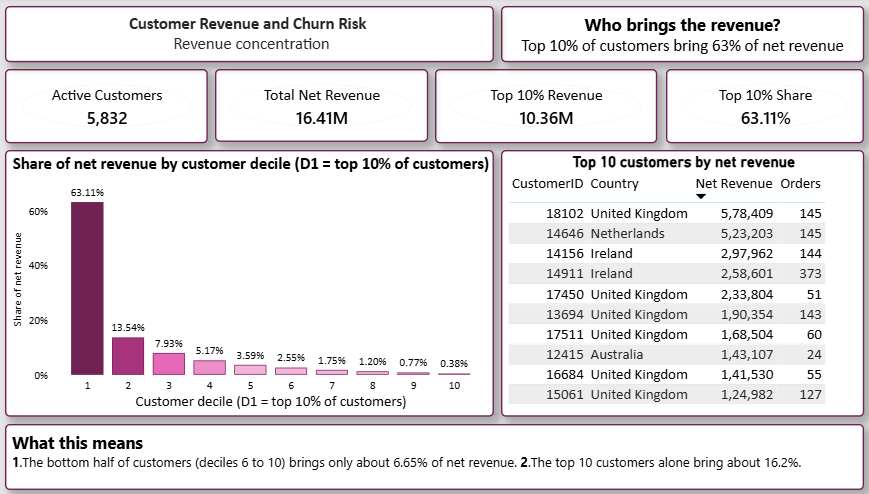

What the dashboard file says about the page in this screenshot:
{"tool":"powerbi","page":{"name":"Revenue concentration","canvas":[1280,720],"ordinal":0},"visuals":[{"type":"cardVisual","fields":{"Data":["dashboard_customers.Active Customers text"]},"box":[30.2,102.2,292.3,106.6],"z":0},{"type":"cardVisual","fields":{"Data":["dashboard_customers.Top 10% Revenue"]},"box":[649.4,102.2,319.7,106.6],"z":1000},{"type":"cardVisual","fields":{"Data":["dashboard_customers.Top 10% Share"]},"box":[982.1,102.2,285.1,106.6],"z":2000},{"type":"cardVisual","fields":{"Data":["dashboard_customers.Total Net Revenue"]},"box":[332.6,102.2,306.7,105.1],"z":3000},{"type":"clusteredColumnChart","title":"Share of net revenue by customer decile (D1 = top 10% of customers)","fields":{"Category":["dashboard_customers.decile"],"Y":["dashboard_customers.Revenue Share %"]},"box":[30.2,218.9,704.2,384.5],"z":4000},{"type":"tableEx","title":"Top 10 customers by net revenue","fields":{"Values":["dashboard_customers.CustomerID","dashboard_customers.Country","Sum(dashboard_customers.monetary)","Sum(dashboard_customers.frequency)"]},"box":[744.5,218.9,522.7,384.5],"z":5000},{"type":"textbox","box":[744.5,11.5,522.7,80.6],"z":6000},{"type":"textbox","box":[30.2,11.5,704.2,80.6],"z":7000},{"type":"textbox","box":[30.2,613.4,1237,95],"z":8000}]}

Visuals, with their boxes in screenshot pixels (x1, y1, x2, y2), scaled from the page's 1280x720 canvas onto the 869x494 screenshot:
cardVisual - dashboard_customers.Active Customers text: select_region(21, 70, 219, 143)
cardVisual - dashboard_customers.Top 10% Revenue: select_region(441, 70, 658, 143)
cardVisual - dashboard_customers.Top 10% Share: select_region(667, 70, 860, 143)
cardVisual - dashboard_customers.Total Net Revenue: select_region(226, 70, 434, 142)
"Share of net revenue by customer decile (D1 = top 10% of customers)" clusteredColumnChart: select_region(21, 150, 499, 414)
"Top 10 customers by net revenue" tableEx: select_region(505, 150, 860, 414)
textbox: select_region(505, 8, 860, 63)
textbox: select_region(21, 8, 499, 63)
textbox: select_region(21, 421, 860, 486)
